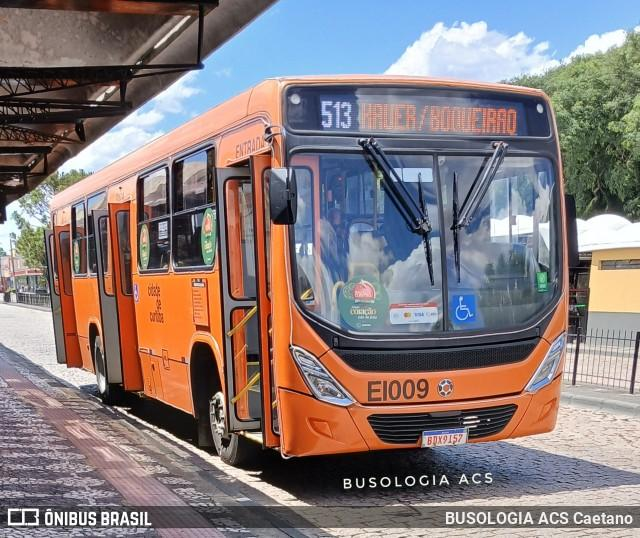HAUER BOQUEIRAO: (357, 97, 520, 137)
